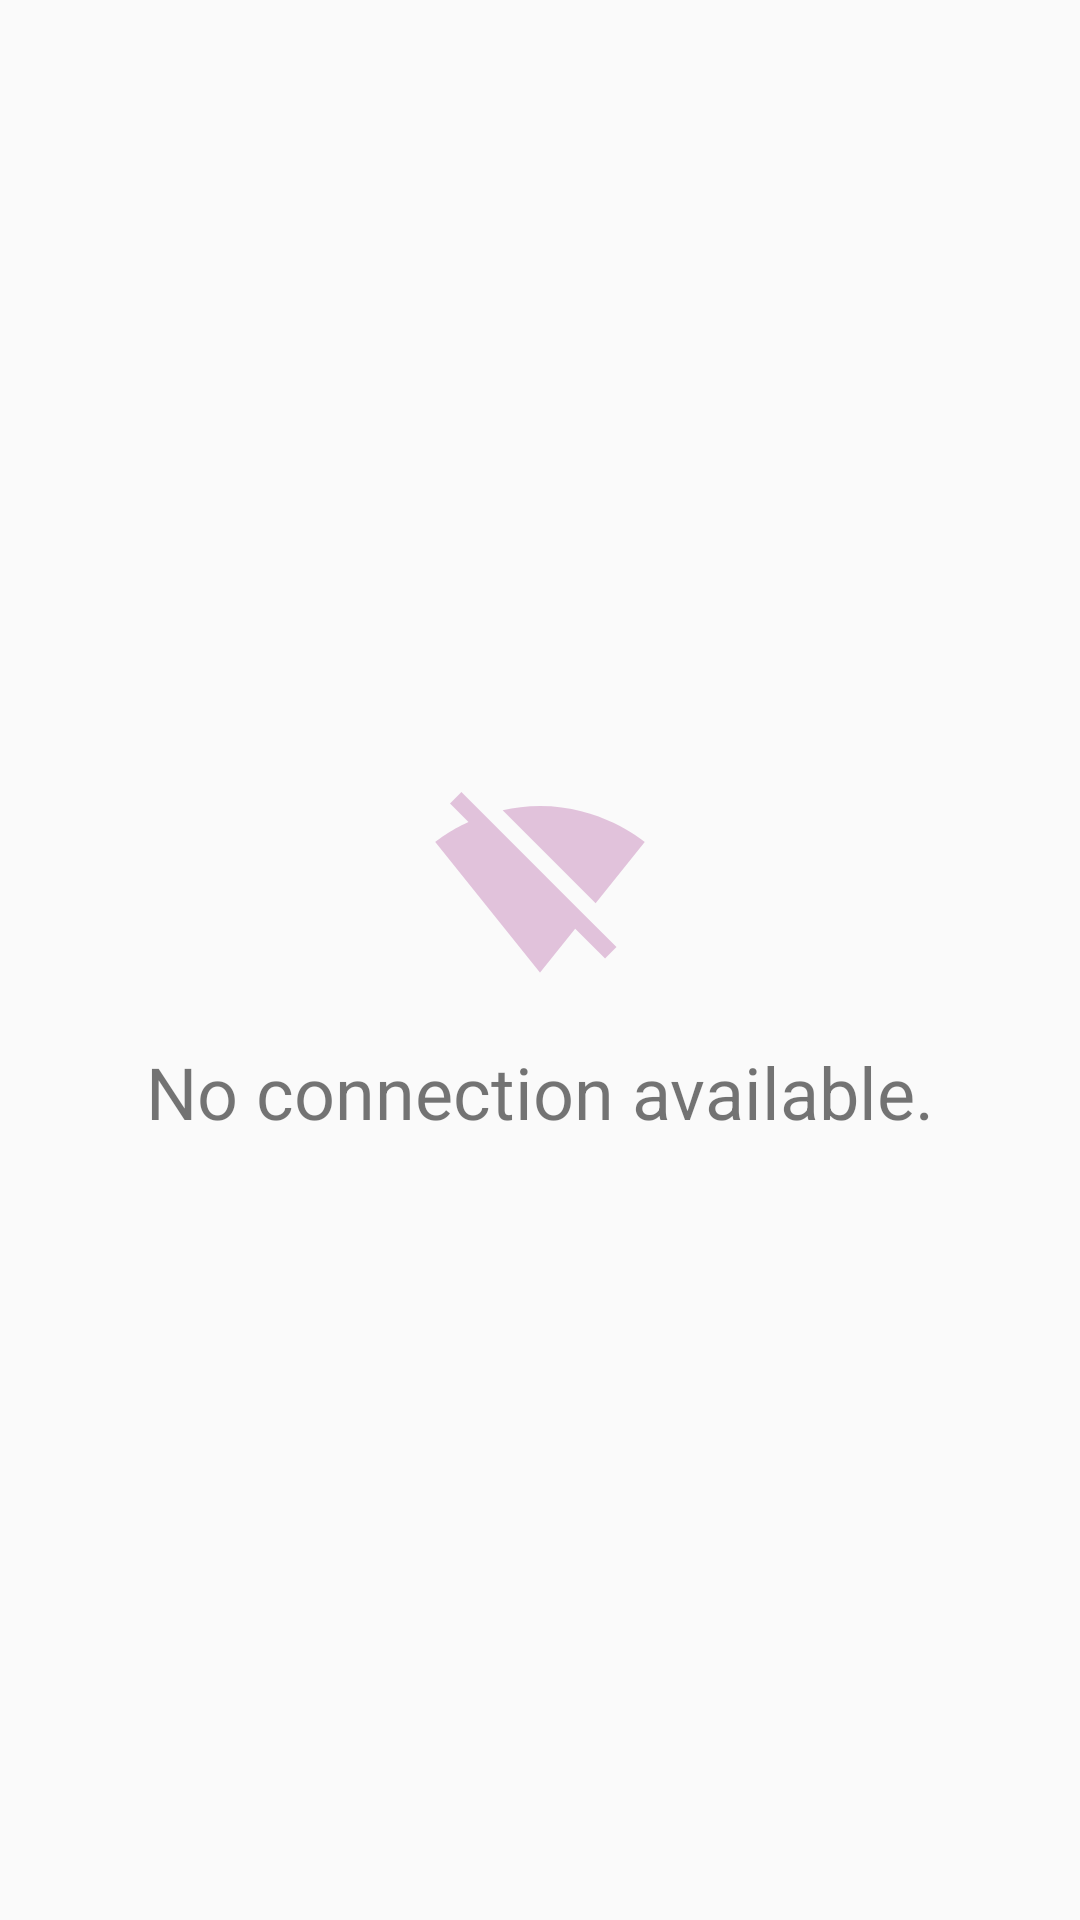

Screen size 1080 × 1920. Icon name, then its box in pixels as [x1,y1,x2,y2]:
signal wifi off: [436,792,644,972]
